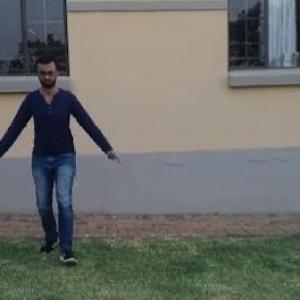land: (0, 52, 120, 266)
